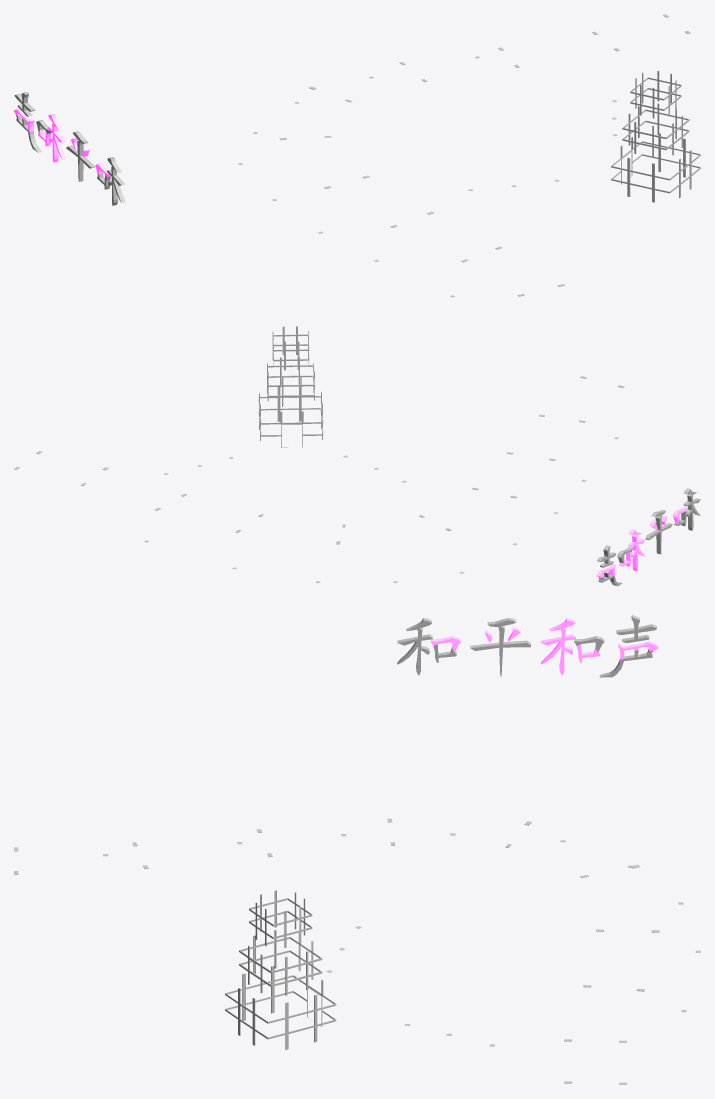
The model's file is L3Light.fbx.
3 views of the same model, one above another, from view 1: azimuth 30°, elevation 25°; view 2: azimuth 150°, elevation 25°; view 3: azimuth 270°, elevation 25° (orthographic). The views are drawn at different scales.
Visible parts, largest first — view 1: Plane.003; view 2: Plane.003; view 3: Plane.003.
Boxes of the visible parts, left/top/right/bottom form: Plane.003: left=14, top=14, right=700, bottom=297; Plane.003: left=14, top=326, right=700, bottom=586; Plane.003: left=14, top=615, right=700, bottom=1084.
Size of the model in its own units: 15359 by 2471 by 11790.
